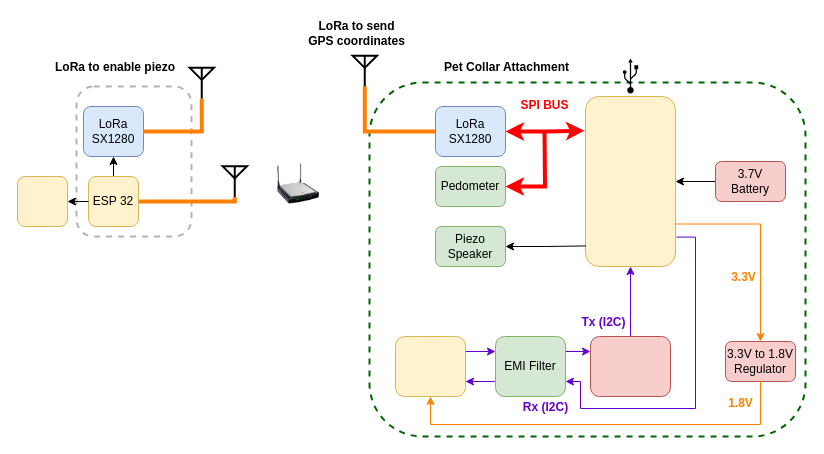
This 824x454 diagram has some shape labels left out. The centre of each missing label's shape, as x and y in pixels:
AdaFruit M4 MCU: (630,181)
Laptop: (42,201)
Logic level translator (1.8 to 3.3): (630,366)
Origin GPS 1510-R02: (430,366)
